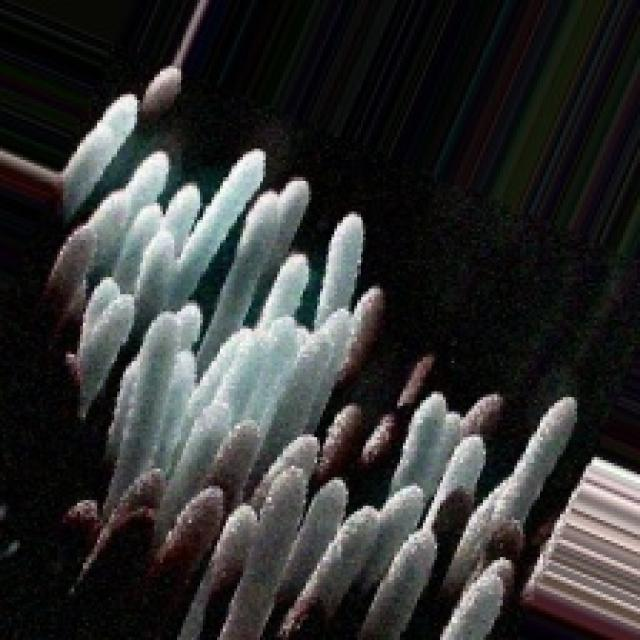Rod_bacteria: (37, 63, 583, 637)
